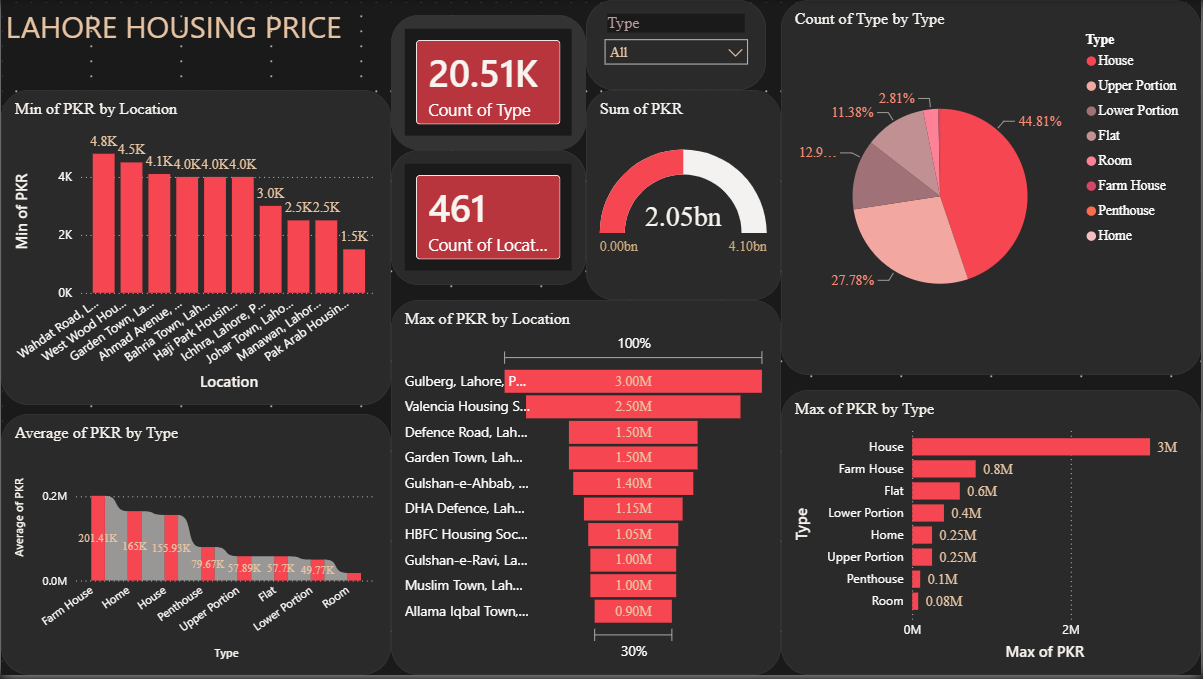

This screenshot's page, from the dashboard's own definition file:
{"tool":"powerbi","page":{"name":"Page 1","canvas":[1280,720],"ordinal":0},"visuals":[{"type":"clusteredColumnChart","fields":{"Category":["lahore-property-rents.Location"],"Y":["Min(lahore-property-rents.PKR)"]},"box":[0,96,416,336],"z":0},{"type":"textbox","box":[0,0,416,96],"z":1000},{"type":"funnel","fields":{"Category":["lahore-property-rents.Location"],"Y":["Max(lahore-property-rents.PKR)"]},"box":[416,320,416,400],"z":2000},{"type":"pieChart","fields":{"Category":["lahore-property-rents.Type"],"Y":["CountNonNull(lahore-property-rents.Type)"]},"box":[832,0,448,400],"z":3000},{"type":"ribbonChart","fields":{"Category":["lahore-property-rents.Type"],"Y":["Avg(lahore-property-rents.PKR)"]},"box":[0,442,416,278],"z":4000},{"type":"barChart","fields":{"Category":["lahore-property-rents.Type"],"Y":["Max(lahore-property-rents.PKR)"]},"box":[832,416,448,304],"z":5000},{"type":"slicer","fields":{"Values":["lahore-property-rents.Type"]},"box":[624,0,192,96],"z":6000},{"type":"cardVisual","fields":{"Data":["Count(lahore-property-rents.Location)"]},"box":[416,160,208,144],"z":7000},{"type":"cardVisual","fields":{"Data":["CountNonNull(lahore-property-rents.Type)"]},"box":[416,16,208,144],"z":8000},{"type":"gauge","fields":{"Y":["Sum(lahore-property-rents.PKR)"]},"box":[624,96,208,224],"z":9000}]}

Visuals, with their boxes in screenshot pixels (x1, y1, x2, y2), scaled from the page's 1280x720 canvas onto the 1203x679 screenshot:
clusteredColumnChart - lahore-property-rents.Location x Min(lahore-property-rents.PKR): (0,91,391,407)
textbox: (0,0,391,91)
funnel - lahore-property-rents.Location x Max(lahore-property-rents.PKR): (391,302,782,678)
pieChart - lahore-property-rents.Type x CountNonNull(lahore-property-rents.Type): (782,0,1202,377)
ribbonChart - lahore-property-rents.Type x Avg(lahore-property-rents.PKR): (0,417,391,678)
barChart - lahore-property-rents.Type x Max(lahore-property-rents.PKR): (782,392,1202,678)
slicer - lahore-property-rents.Type: (586,0,767,91)
cardVisual - Count(lahore-property-rents.Location): (391,151,586,287)
cardVisual - CountNonNull(lahore-property-rents.Type): (391,15,586,151)
gauge - Sum(lahore-property-rents.PKR): (586,91,782,302)
